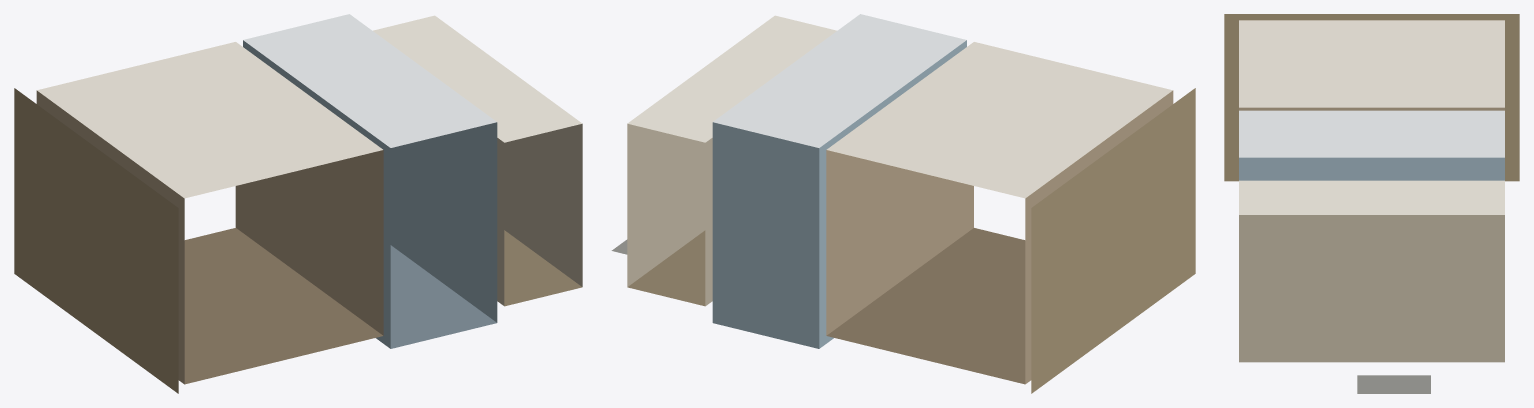
The model's file is fixture-lower.glb.
3 views of the same model, side by side, from view 1: azimuth 30°, elevation 25°; view 2: azimuth 150°, elevation 25°; view 3: azimuth 270°, elevation 25° (orthographic). The views are drawn at different scales.
Visible parts, largest first — view 1: s-e-l-ext-out, s-r-l-a-ceiling, s-r-l-a-floor, s-w-l-ab--r-l-a, s-w-l-bc--r-l-b, s-r-l-b-ceiling, s-e-l-ext--r-l-closet, s-r-l-closet-ceiling, s-r-l-b-floor, s-e-l-ext--r-l-a, s-r-l-closet-floor, s-w-l-ab--r-l-b (+1 smaller); view 2: s-e-l-ext-out, s-r-l-a-ceiling, s-e-l-ext--r-l-b, s-r-l-a-floor, s-w-l-ab--r-l-a, s-r-l-b-ceiling, s-e-l-ext--r-l-closet, s-r-l-closet-ceiling, s-e-l-ext--r-l-a, s-r-l-closet-floor, s-w-l-ab--r-l-b, s-w-l-bc--r-l-closet; view 3: s-e-l-ext--r-l-closet, s-r-l-a-ceiling, s-r-l-b-ceiling, s-r-l-closet-ceiling, s-e-l-ext-out, s-w-l-bc--r-l-b, s-e-l-step, s-w-l-ab--r-l-a.
Part boxes in pixels (x1,y1,x2,y2): s-e-l-ext-out: (14, 88, 178, 393); s-r-l-a-ceiling: (37, 42, 382, 198); s-r-l-a-floor: (184, 228, 382, 384); s-w-l-ab--r-l-a: (235, 150, 383, 335); s-w-l-bc--r-l-b: (390, 122, 497, 322); s-r-l-b-ceiling: (243, 14, 496, 147); s-e-l-ext--r-l-closet: (504, 123, 582, 286); s-r-l-closet-ceiling: (373, 15, 581, 142); s-r-l-b-floor: (390, 245, 496, 348); s-e-l-ext--r-l-a: (36, 90, 184, 384); s-r-l-closet-floor: (504, 230, 581, 306); s-w-l-ab--r-l-b: (243, 40, 390, 348); s-e-l-ext-out: (1031, 88, 1195, 393); s-r-l-a-ceiling: (826, 42, 1172, 198); s-e-l-ext--r-l-b: (712, 122, 819, 348); s-r-l-a-floor: (826, 228, 1025, 384); s-w-l-ab--r-l-a: (826, 150, 973, 335); s-r-l-b-ceiling: (713, 14, 966, 147); s-e-l-ext--r-l-closet: (627, 123, 705, 286); s-r-l-closet-ceiling: (627, 15, 836, 142); s-e-l-ext--r-l-a: (1025, 90, 1173, 384); s-r-l-closet-floor: (627, 230, 705, 306); s-w-l-ab--r-l-b: (819, 40, 966, 348); s-w-l-bc--r-l-closet: (705, 138, 712, 306); s-e-l-ext--r-l-closet: (1239, 215, 1504, 362); s-r-l-a-ceiling: (1239, 20, 1504, 107); s-r-l-b-ceiling: (1239, 110, 1504, 157); s-r-l-closet-ceiling: (1239, 180, 1504, 214); s-e-l-ext-out: (1224, 14, 1519, 181); s-w-l-bc--r-l-b: (1239, 157, 1504, 180); s-e-l-step: (1357, 375, 1430, 393); s-w-l-ab--r-l-a: (1239, 107, 1504, 110).
Size of the model in its own units: 6.6 by 2.7 by 4.
